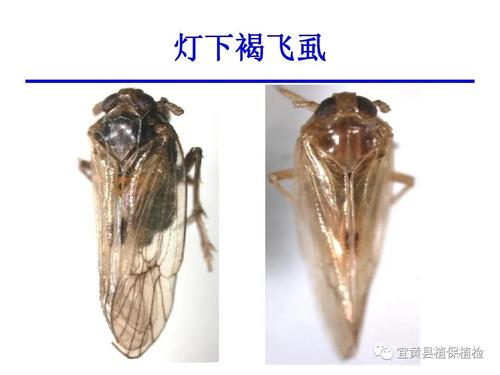Delphacidae: (269, 86, 416, 362), (76, 88, 217, 360)
